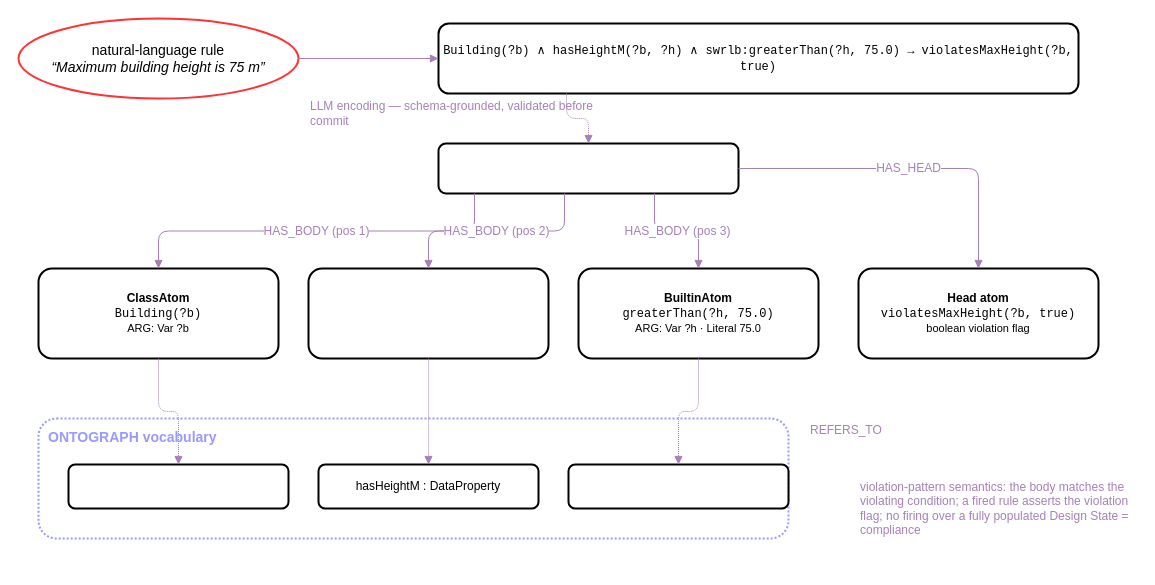
This 1155x585 diagram has some shape labels left out. Each missing label, with the box of its shape:
Building : Class: (67, 463, 289, 509)
DataPropertyAtom hasHeightM(?b, ?h) ARG: Var ?b · Var ?h: (307, 267, 549, 359)
Rule R_URB_HEIGHT_MAX_75_V: (437, 142, 739, 194)
swrlb:greaterThan : Builtin: (567, 463, 789, 509)
